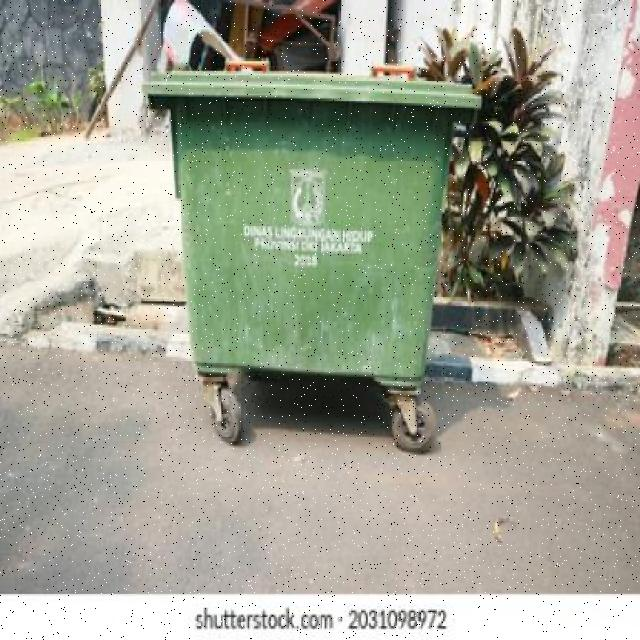garbage container: (134, 55, 489, 462)
